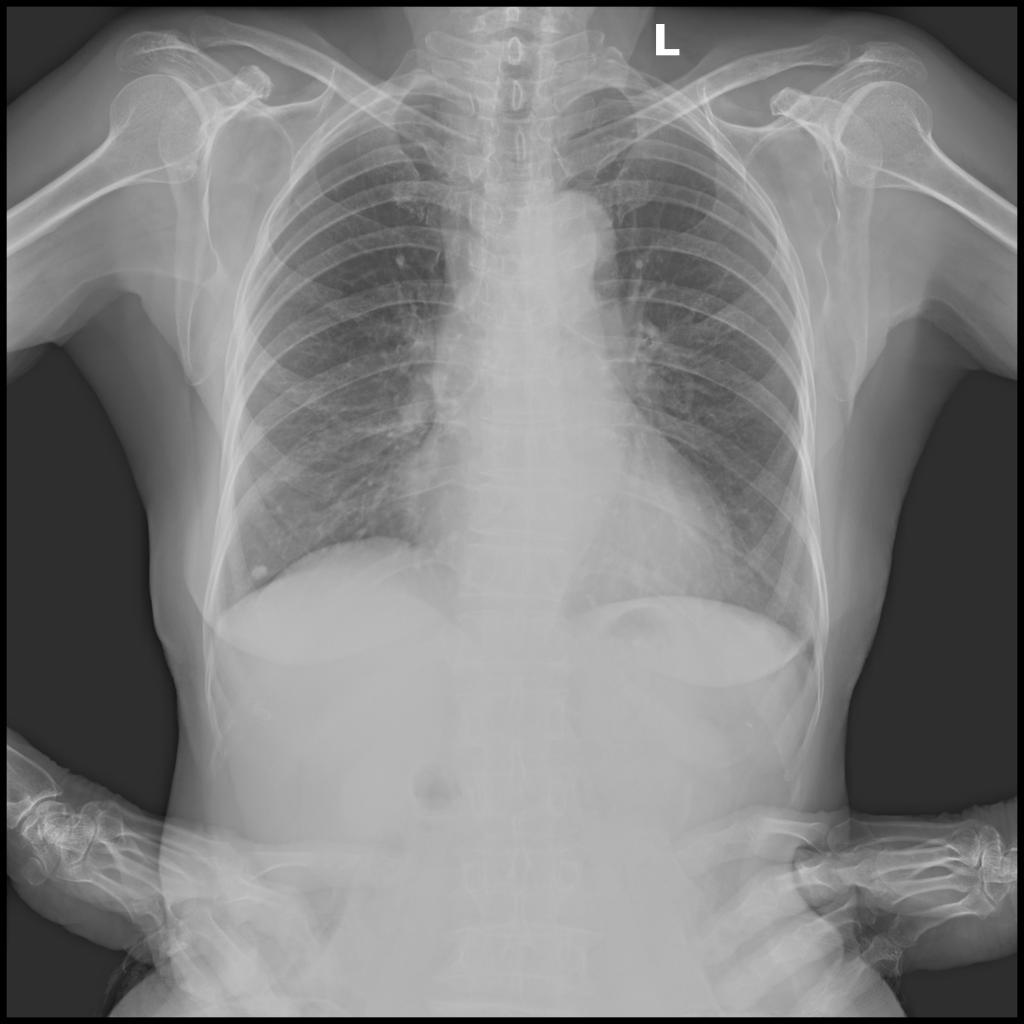Nodule: (248, 564, 269, 581)
